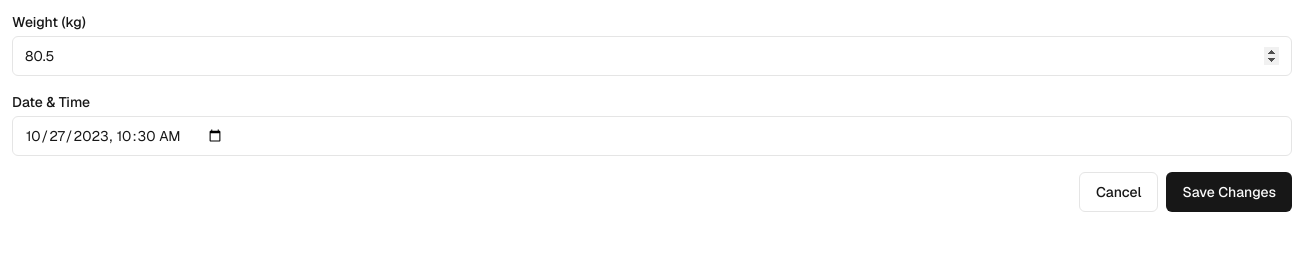
it: EditWeightForm › displays an error message for invalid weight (negative) and shows date error if still present
The width and height of the screenshot is (1304, 277).
Simulate a previous date error
Clear the field labelled "Date & Time": (652, 136) [12,116,1292,156]
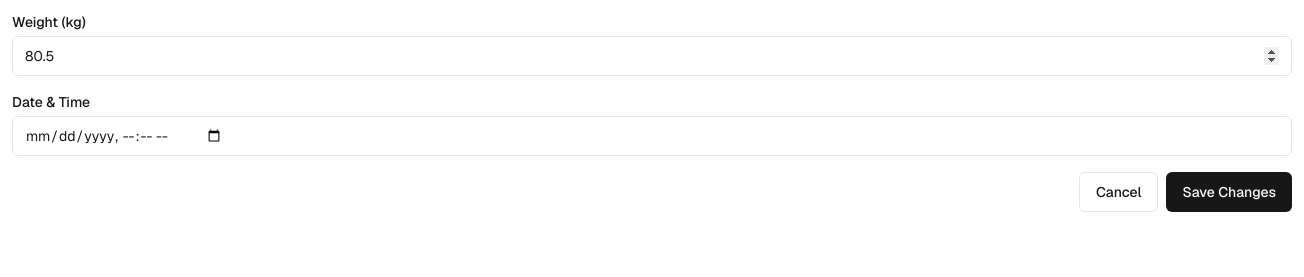
Click the button "Save Changes": (1229, 192) [1166,172,1292,212]
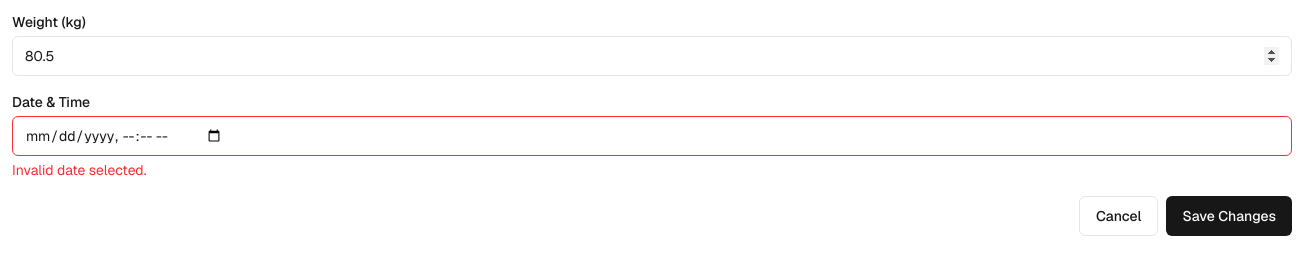
Now the text "Invalid date selected." is shown, box [12,161,146,179]
Replace the text in the number field labelled "Weight (kg)" with "-10": (652, 56) [12,36,1292,76]
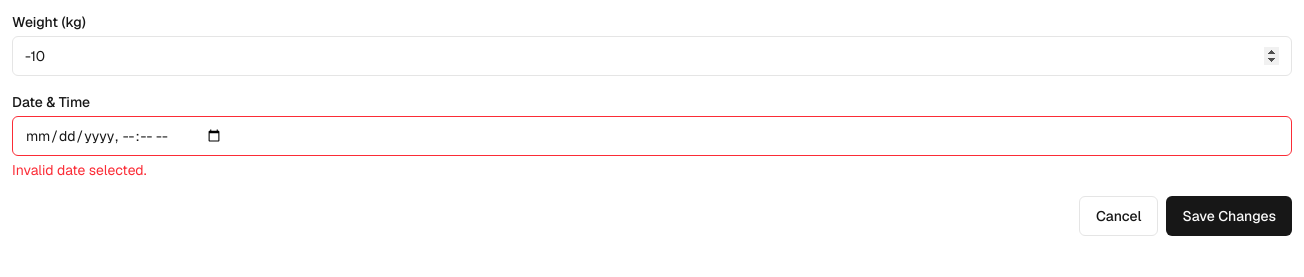
Click the button "Save Changes": (1229, 216) [1166,196,1292,236]
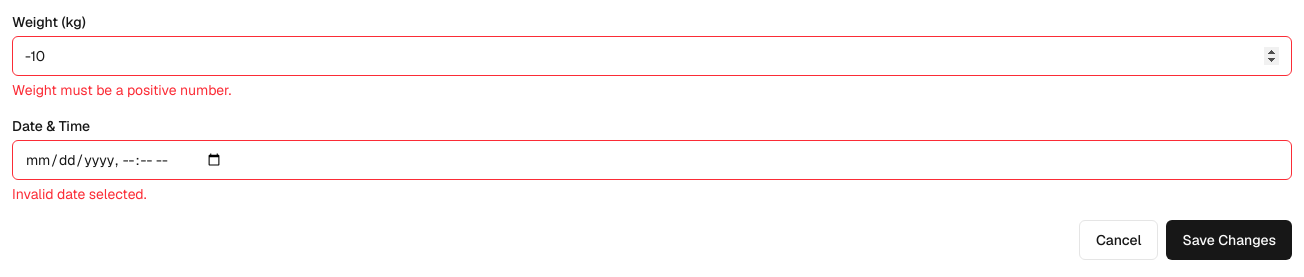
Now the text "Invalid date selected." is shown, box [12,185,146,203]
Now the text "Weight must be a positive number." is shown, box [12,81,231,99]
